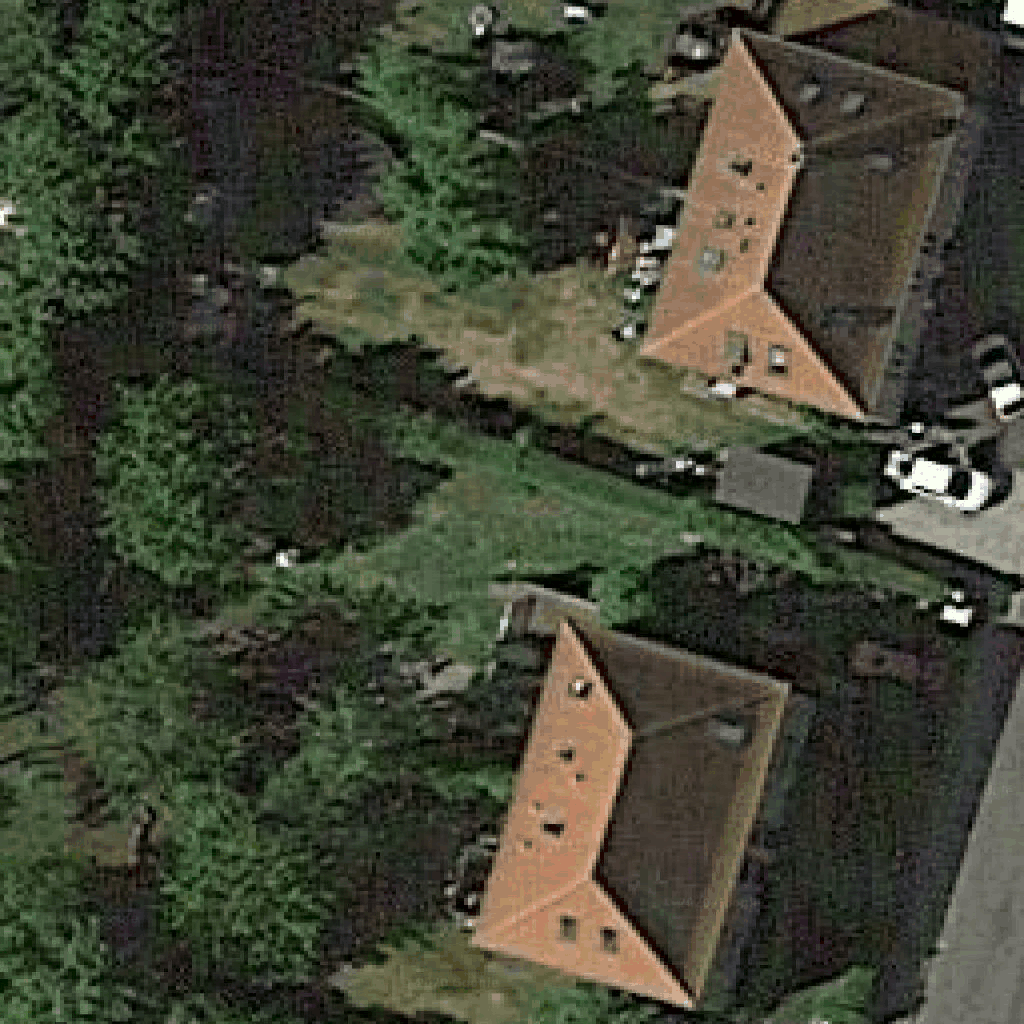car: (885, 443, 996, 517), (851, 635, 952, 696), (969, 336, 1024, 424)
